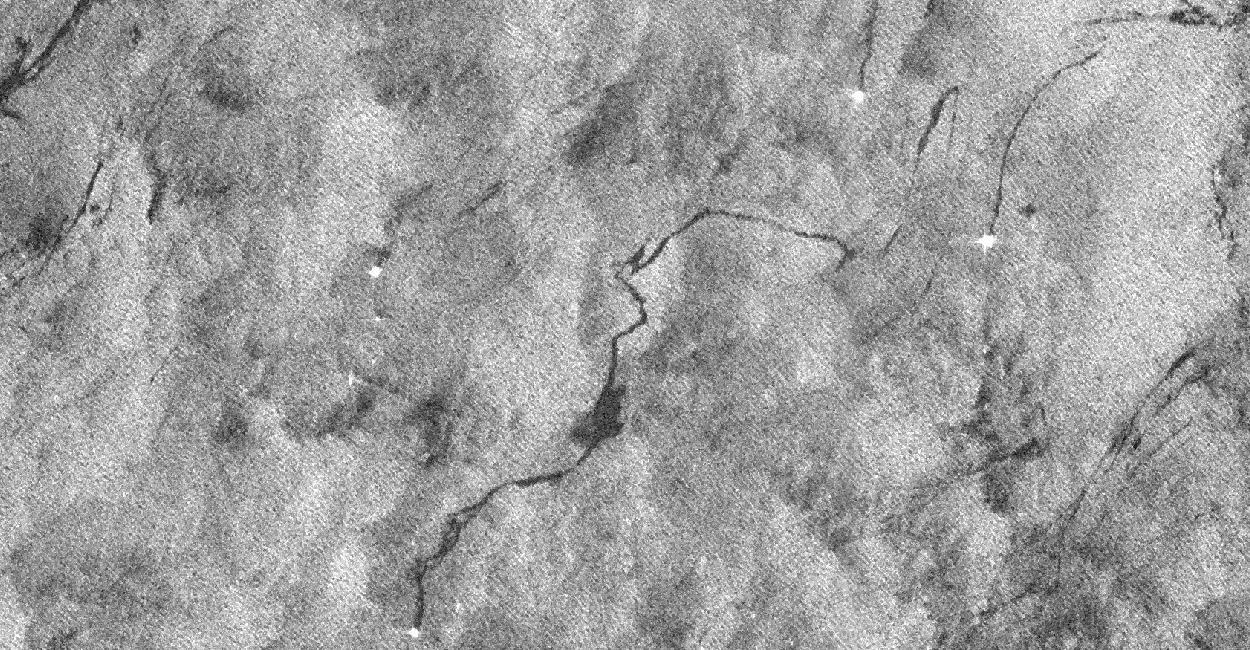Look-alike: (0, 0, 1250, 650)
Oil Spill: (404, 197, 766, 632), (984, 82, 1050, 236), (906, 84, 962, 176), (382, 182, 434, 238), (856, 0, 882, 88), (810, 232, 858, 274), (1048, 50, 1100, 81), (376, 240, 396, 268), (772, 220, 786, 232), (948, 124, 956, 140), (794, 230, 808, 238), (950, 112, 956, 124), (624, 266, 630, 276), (692, 210, 696, 213), (610, 442, 613, 446), (458, 516, 461, 518), (422, 194, 424, 195), (468, 503, 470, 504)
